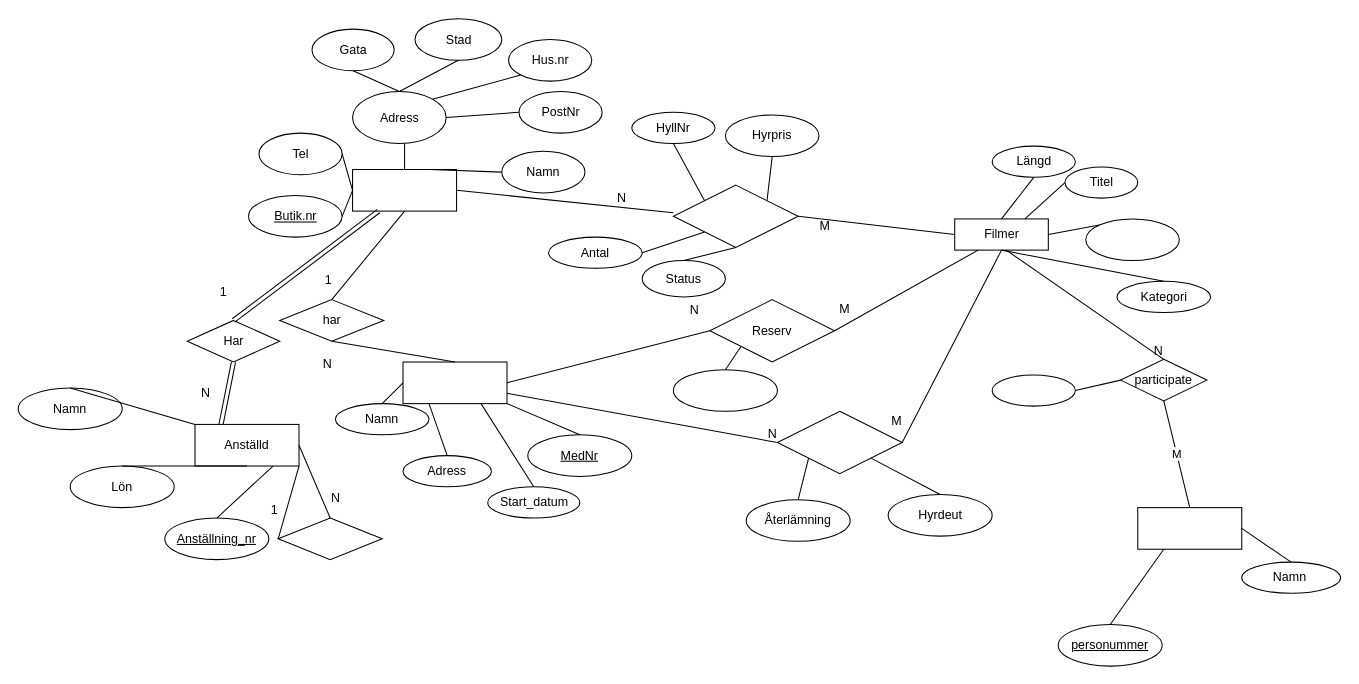
Image size: 1359x684. Some labels were removed from this diagram. The centre of each missing label's shape, as x and y in pixels:
"Butik" goes at point 404,189.
"Chef" goes at point 329,538.
"Erbjuder" goes at point 735,216.
"FilmNr" goes at point 1132,239.
"Medlemmar" goes at point 454,382.
"Participants" goes at point 1189,528.
"Reserv_datum" goes at point 724,390.
"Roll" goes at point 1033,390.
"Uthyrning" goes at point 839,442.
